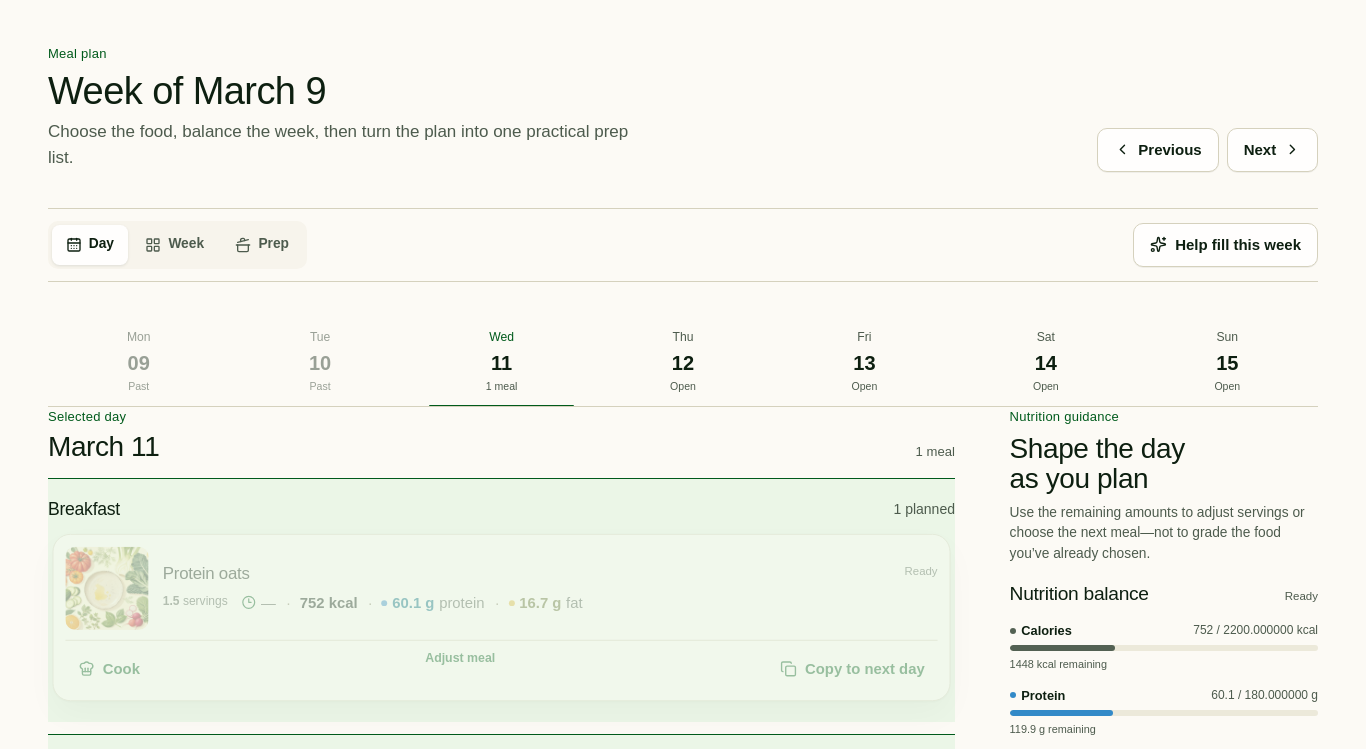
goal and weekly planning UI › keeps past planner days visible but read-only
Expected: the heading "Week of March 9" is shown, [48,70,326,112]
Click the tab "Week" at (175, 245), box [132,225,218,265]
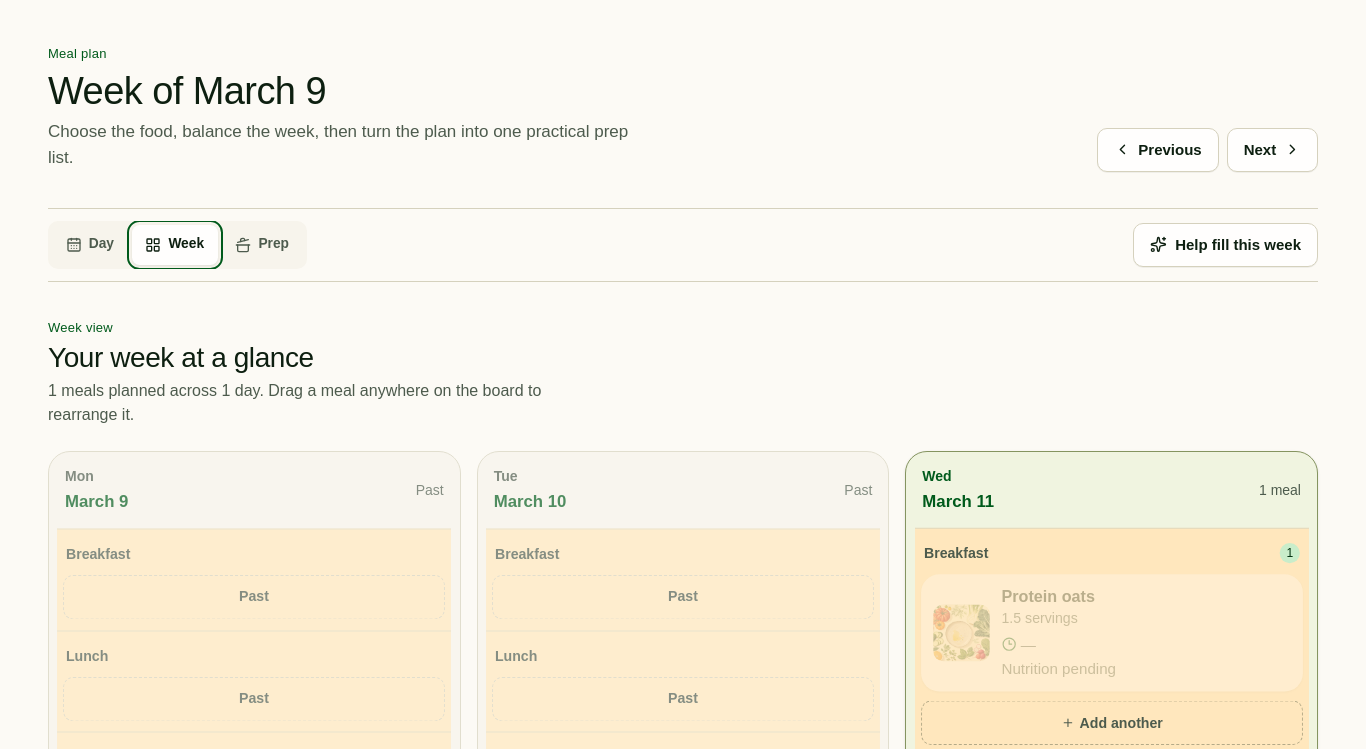
Click the tab "Day" at (90, 245), box [52,225,128,265]
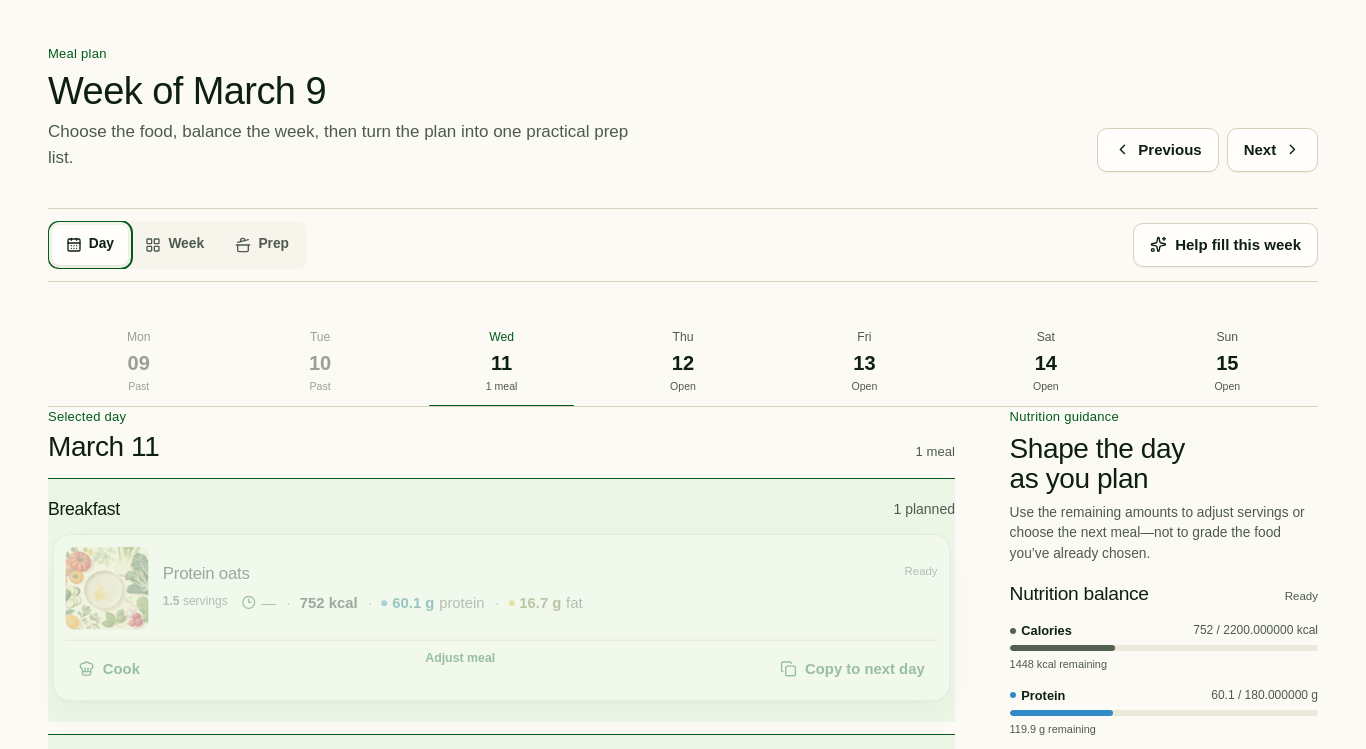
Click the tab "Mon 09 Past" at (139, 362), box [48,318,229,406]
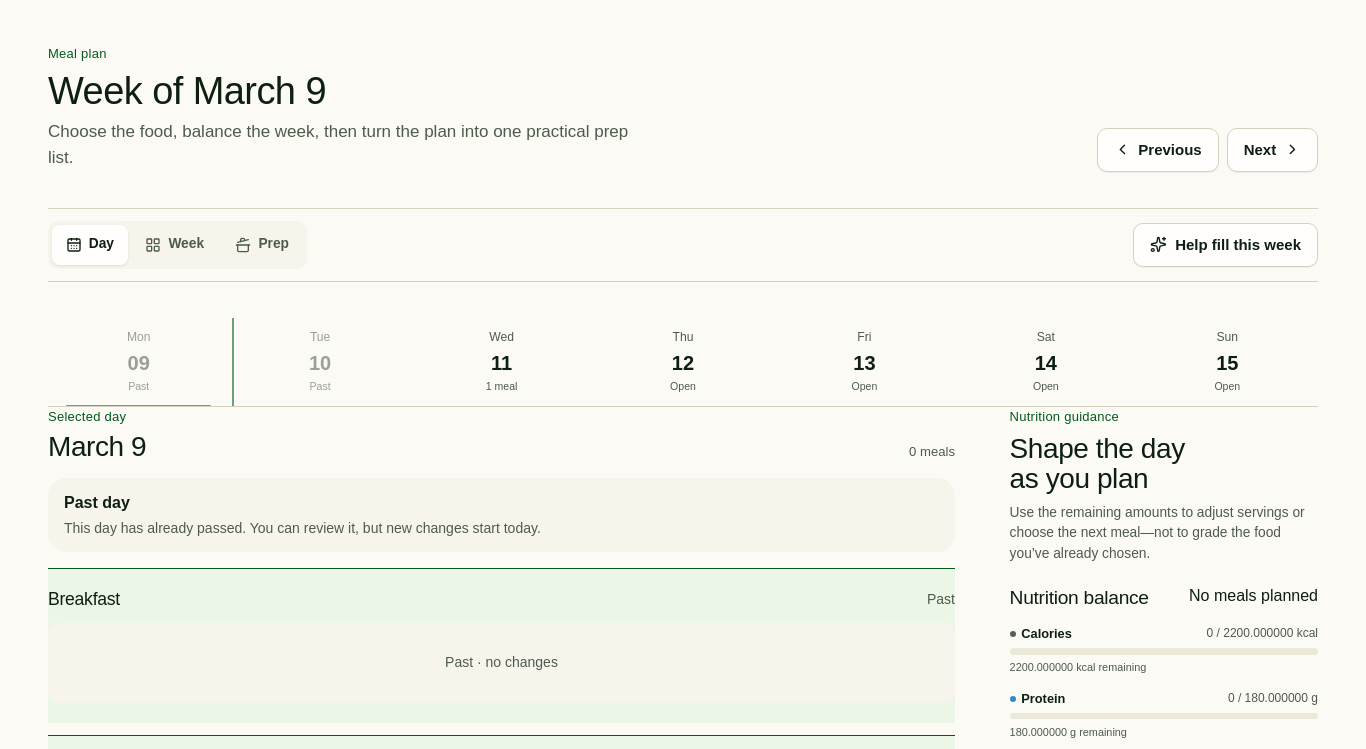
Expected: the text "Past day" is shown, [64,494,130,511]
